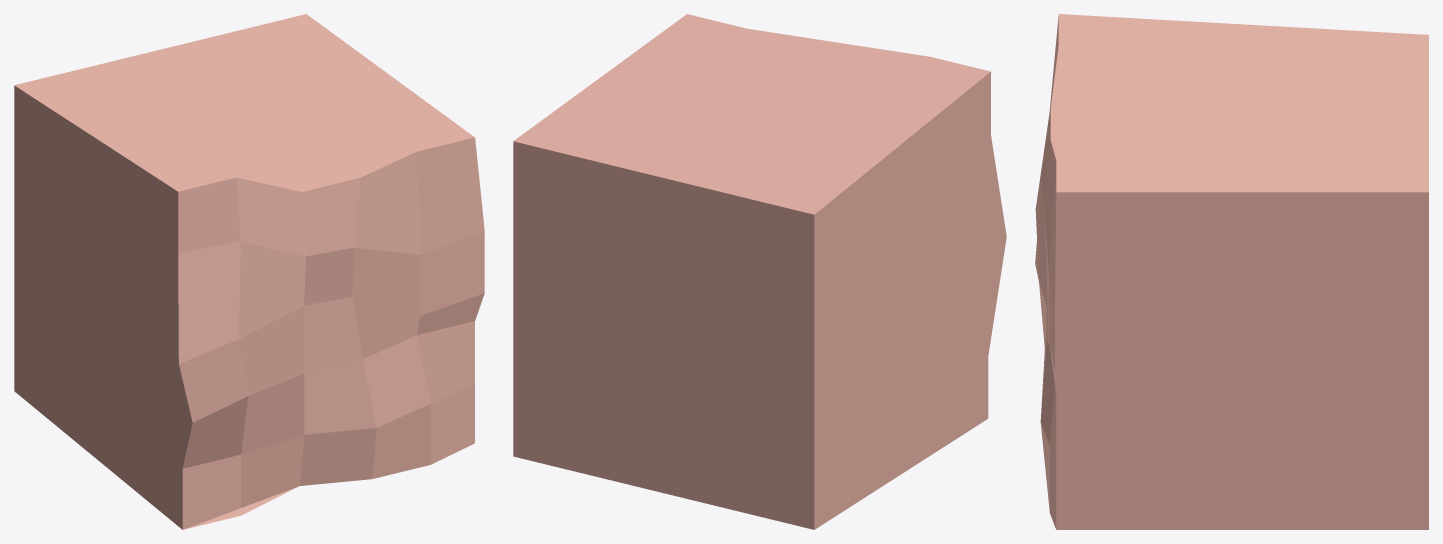
File: wallTilePink.glb
3 renders of one model, left to right at view 1: azimuth 30°, elevation 25°; view 2: azimuth 150°, elevation 25°; view 3: azimuth 270°, elevation 25°, orthographic. The views are drawn at different scales.
Parts seen in each view (by area): view 1: Cube.001; view 2: Cube.001; view 3: Cube.001.
Part boxes in pixels (<box>): Cube.001: <box>14,14,484,529</box>; Cube.001: <box>513,14,1006,529</box>; Cube.001: <box>1035,14,1428,529</box>.
Size of the model in its own units: 1.07 by 1.11 by 1.06.
1 material, 1 textured.
